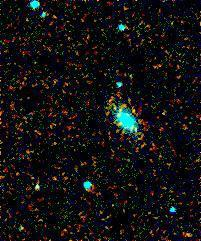star: (7, 213, 37, 241)
